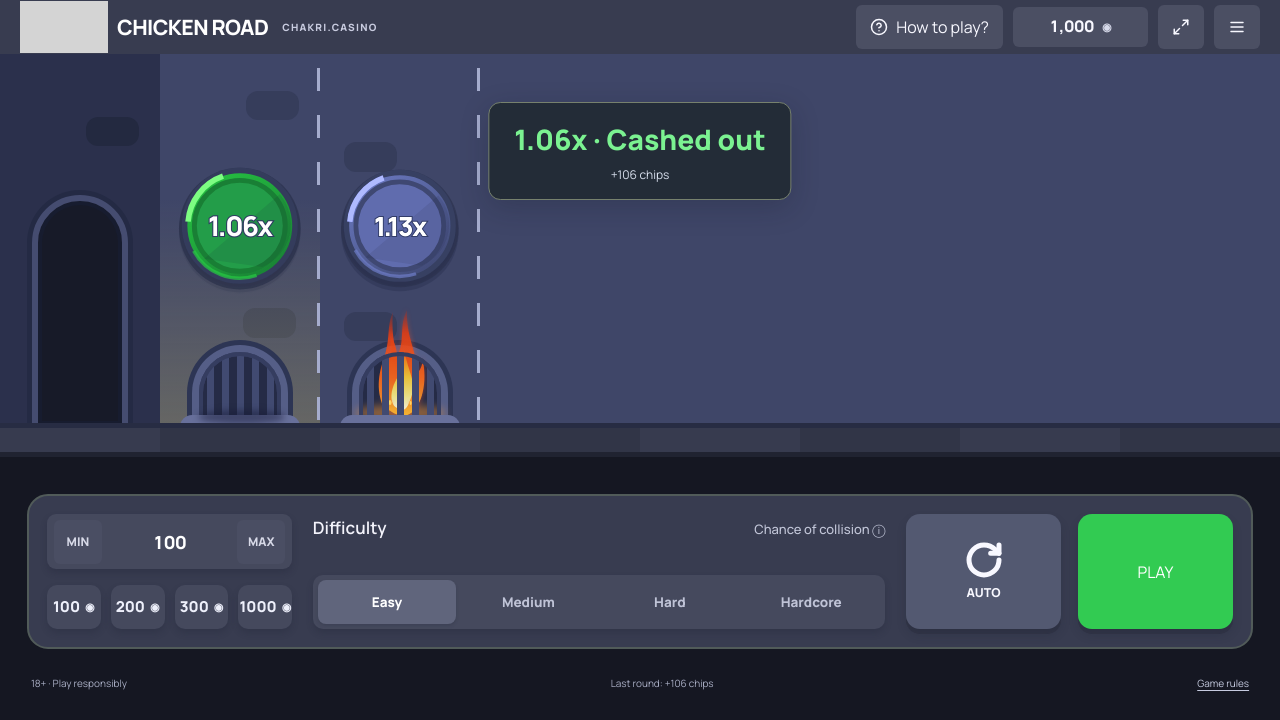
Scenario: terminal proof checks are read-only, bind the known round, and show success only after verification
Later steps or results of the test are not shown.
What coordinates should you click on to do the following:
click the button "Game rules"
I would click on:
 (1223, 683)
Its box is [1197,661,1249,705].
(page scrolled)
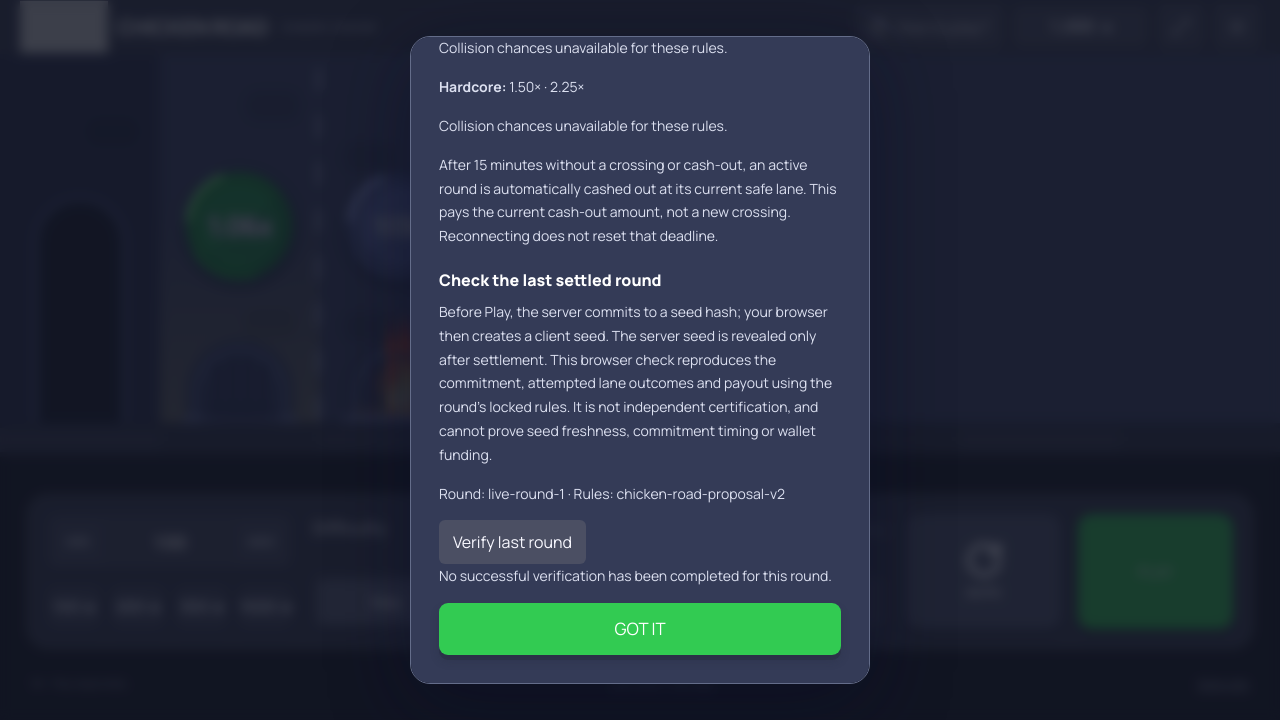
What coordinates should you click on to do the following:
click the button "Verify last round"
I would click on:
 (512, 542)
Its box is [439,520,586,564].
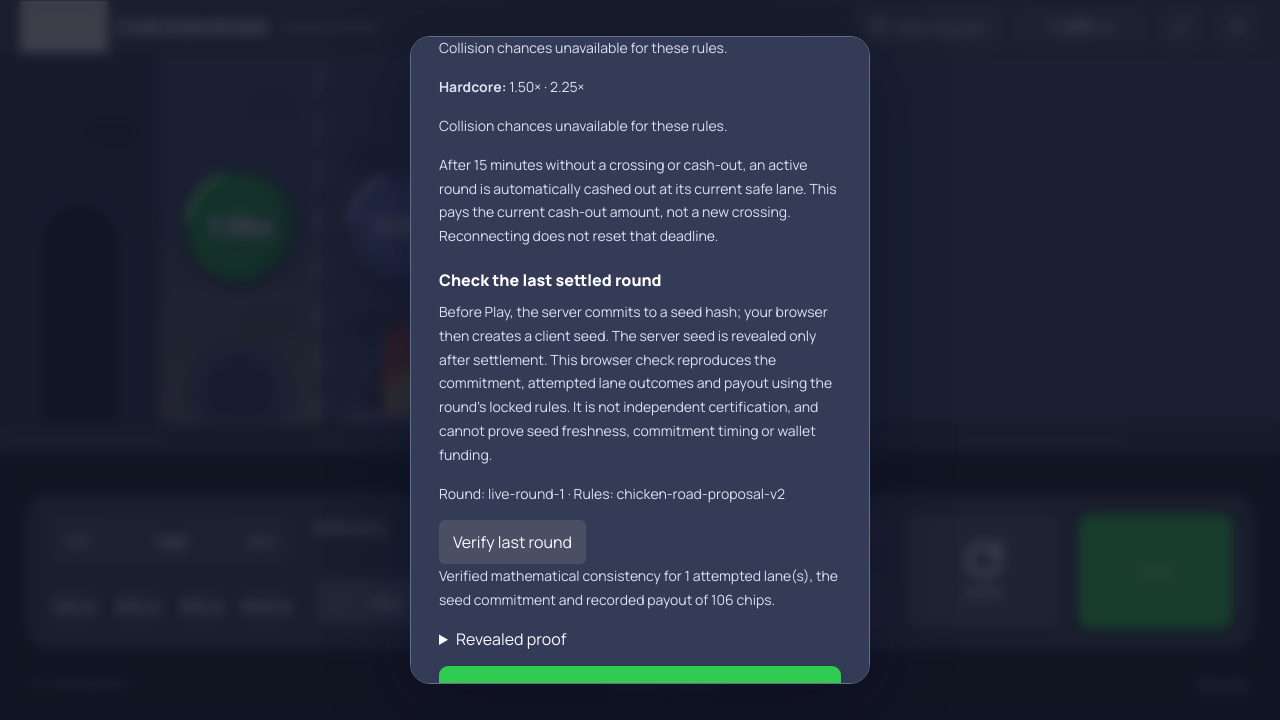
expect the text "Verified mathematical consistency for 1 attempted lane(s)" is shown: met, box [439,566,838,609]
expect the text "recorded payout of 106 chips" is shown: met, box [439,566,838,609]
